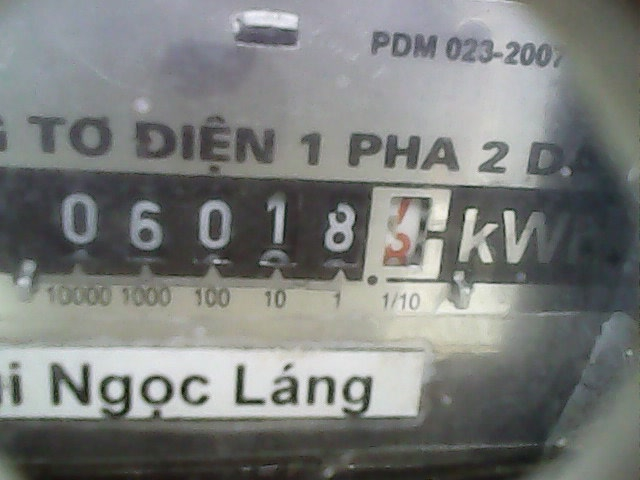phy_plate: (44, 169, 459, 285)
